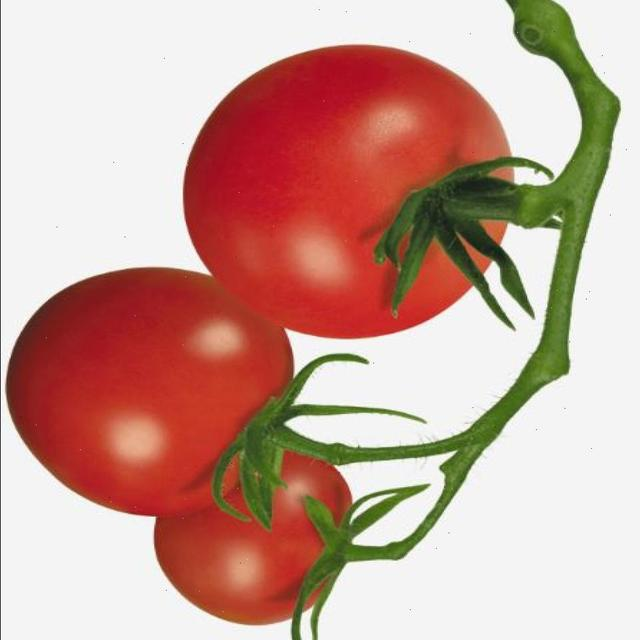Healthy Fruit: (110, 124, 238, 359)
